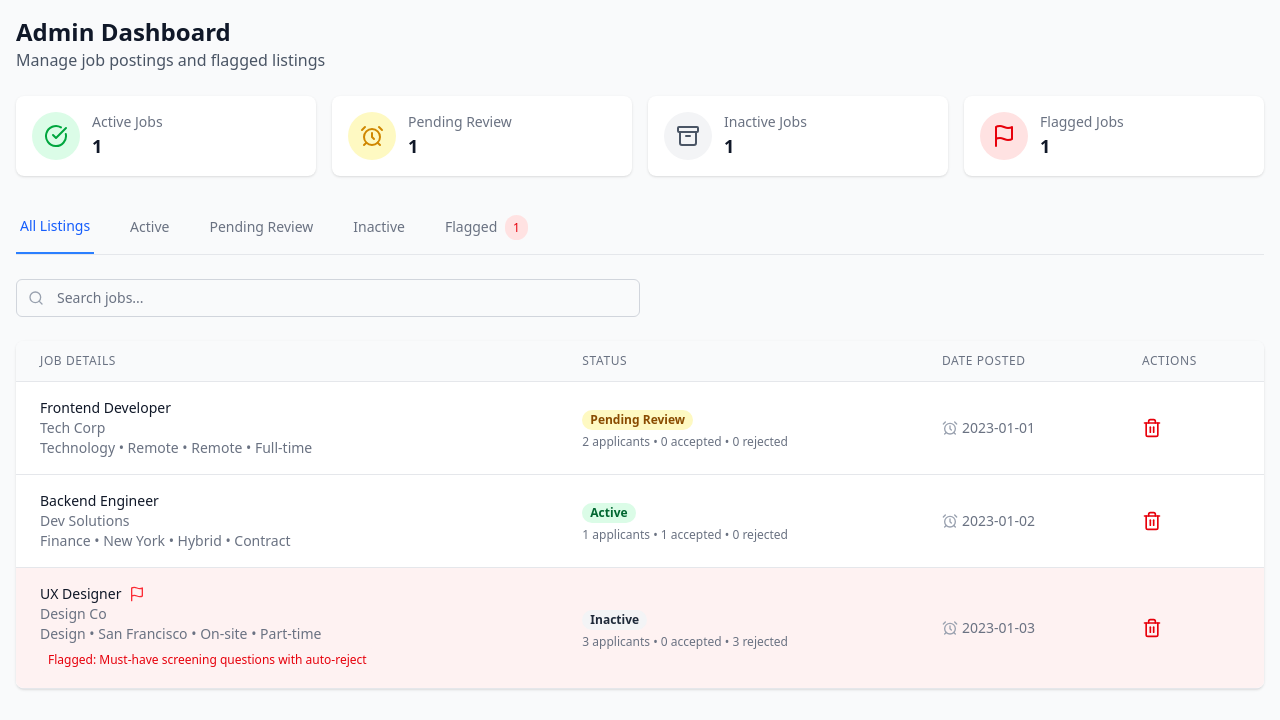
Test case: JobListing Component › displays "No jobs found" when filters return no results
The image size is (1280, 720).
Check: the text "Frontend Developer" is shown, box [40,398,171,417]
Type "nonexistent job" into the field with placeholder "Search jobs..." at point(328, 298), box [16,279,640,317]
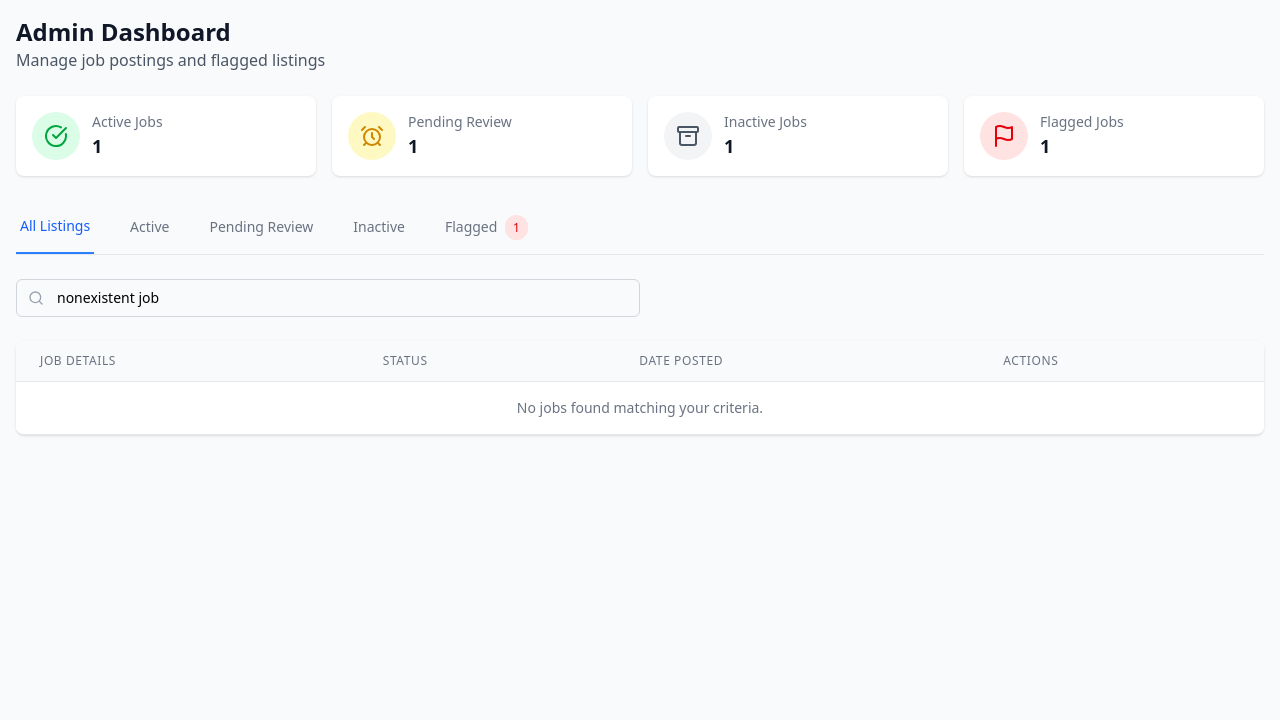
Check: the text "No jobs found matching your criteria." is shown, box [16,382,1264,434]
